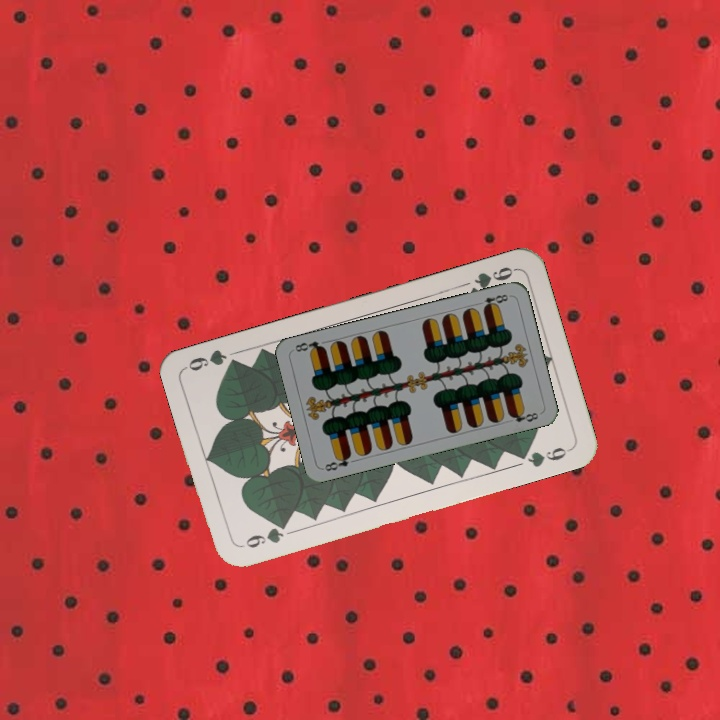E8: (321, 450, 354, 474), (479, 290, 513, 312)
G9: (464, 262, 519, 298), (242, 518, 291, 551)
